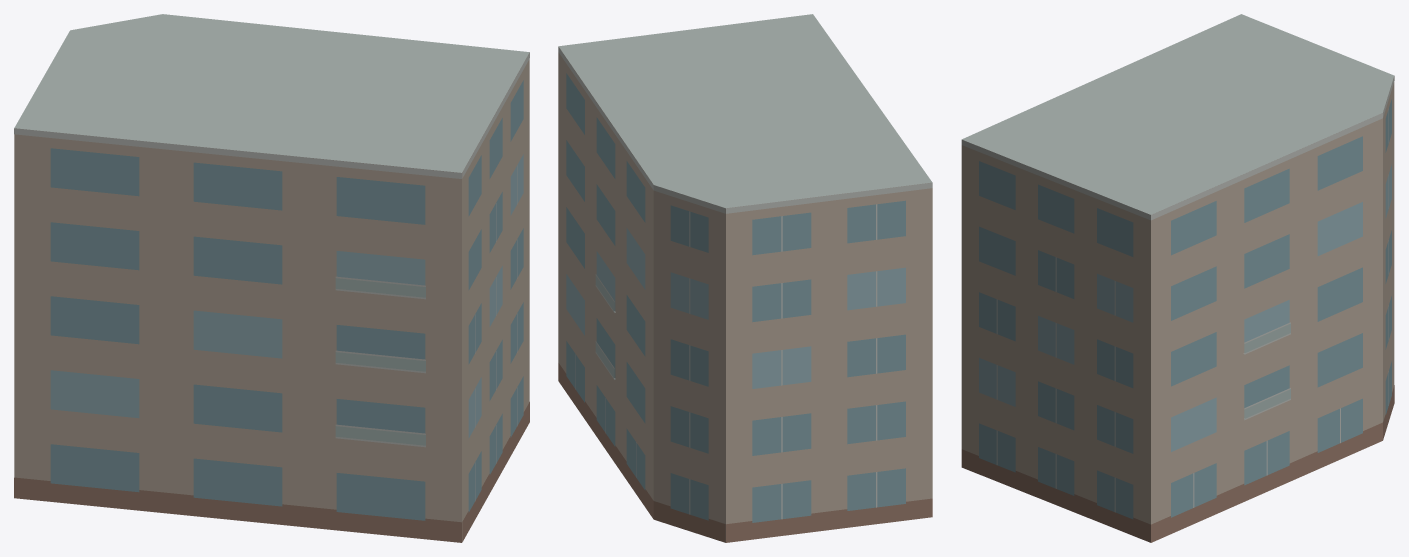
The model's file is survey-upis-32969755.glb.
3 renders of one model, left to right at view 1: azimuth 30°, elevation 25°; view 2: azimuth 150°, elevation 25°; view 3: azimuth 270°, elevation 25°, orthographic. The views are drawn at different scales.
Parts seen in each view (by area): view 1: survey-upis-32969755.tmp; view 2: survey-upis-32969755.tmp; view 3: survey-upis-32969755.tmp.
Boxes of the visible parts, x1=… form: survey-upis-32969755.tmp: x1=14, y1=14, x2=529, y2=542; survey-upis-32969755.tmp: x1=558, y1=14, x2=932, y2=542; survey-upis-32969755.tmp: x1=961, y1=14, x2=1394, y2=542.
Size of the model in its own units: 19.2 by 14.6 by 17.47.
